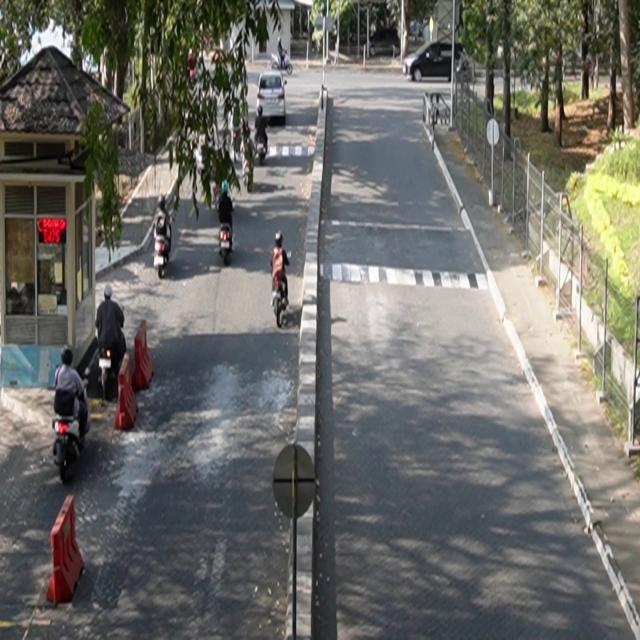car: (404, 40, 471, 83), (257, 71, 288, 126), (365, 29, 401, 59)
